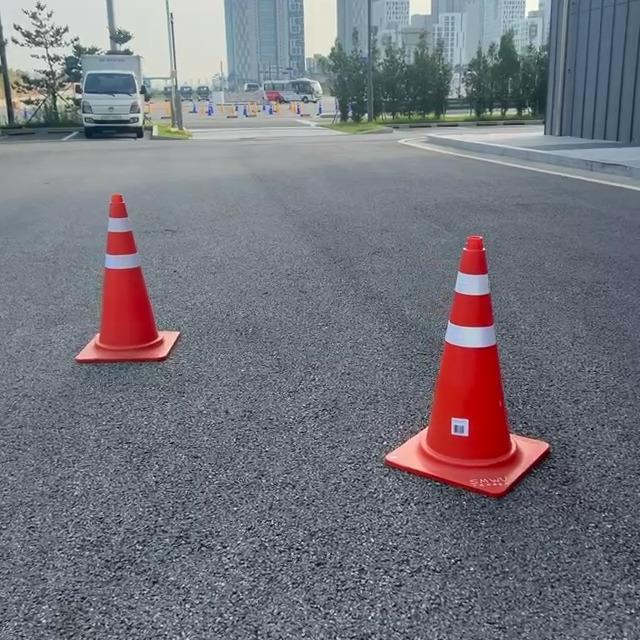fallen_object: (450, 165, 576, 467), (52, 187, 193, 395)
